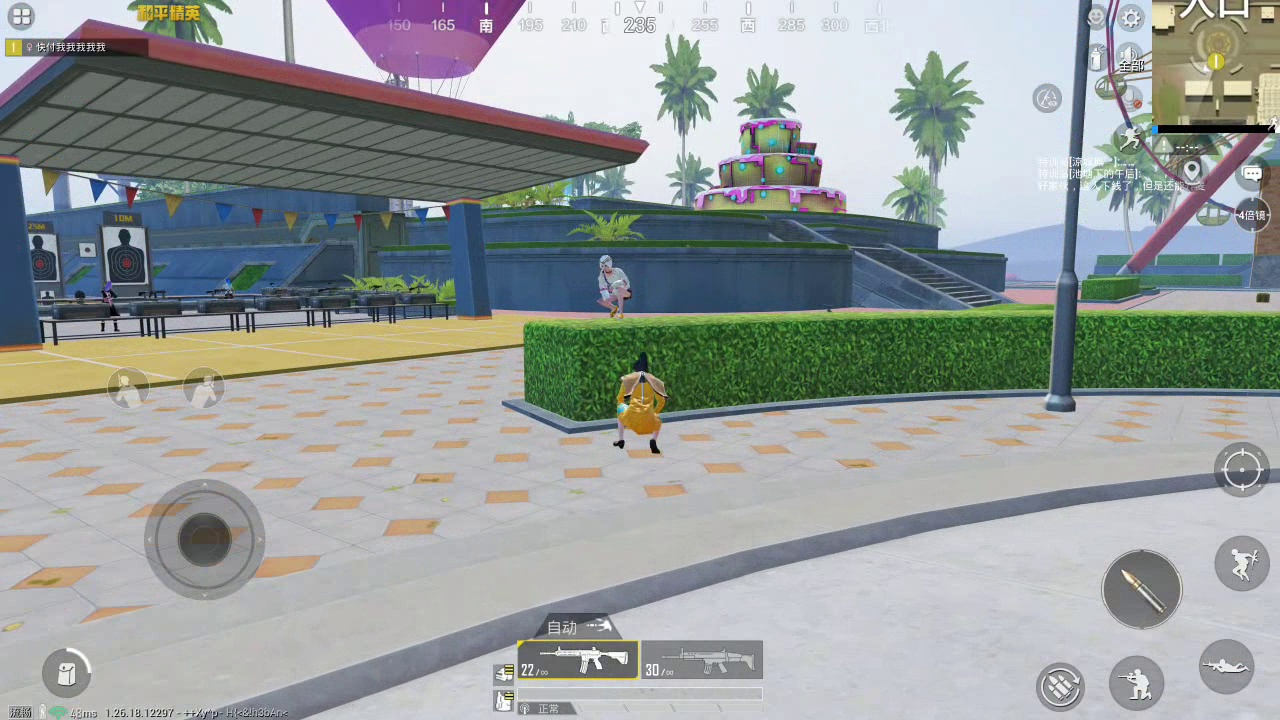enemy: (617, 351, 662, 453), (595, 251, 633, 321), (100, 280, 121, 332), (223, 277, 234, 298)
